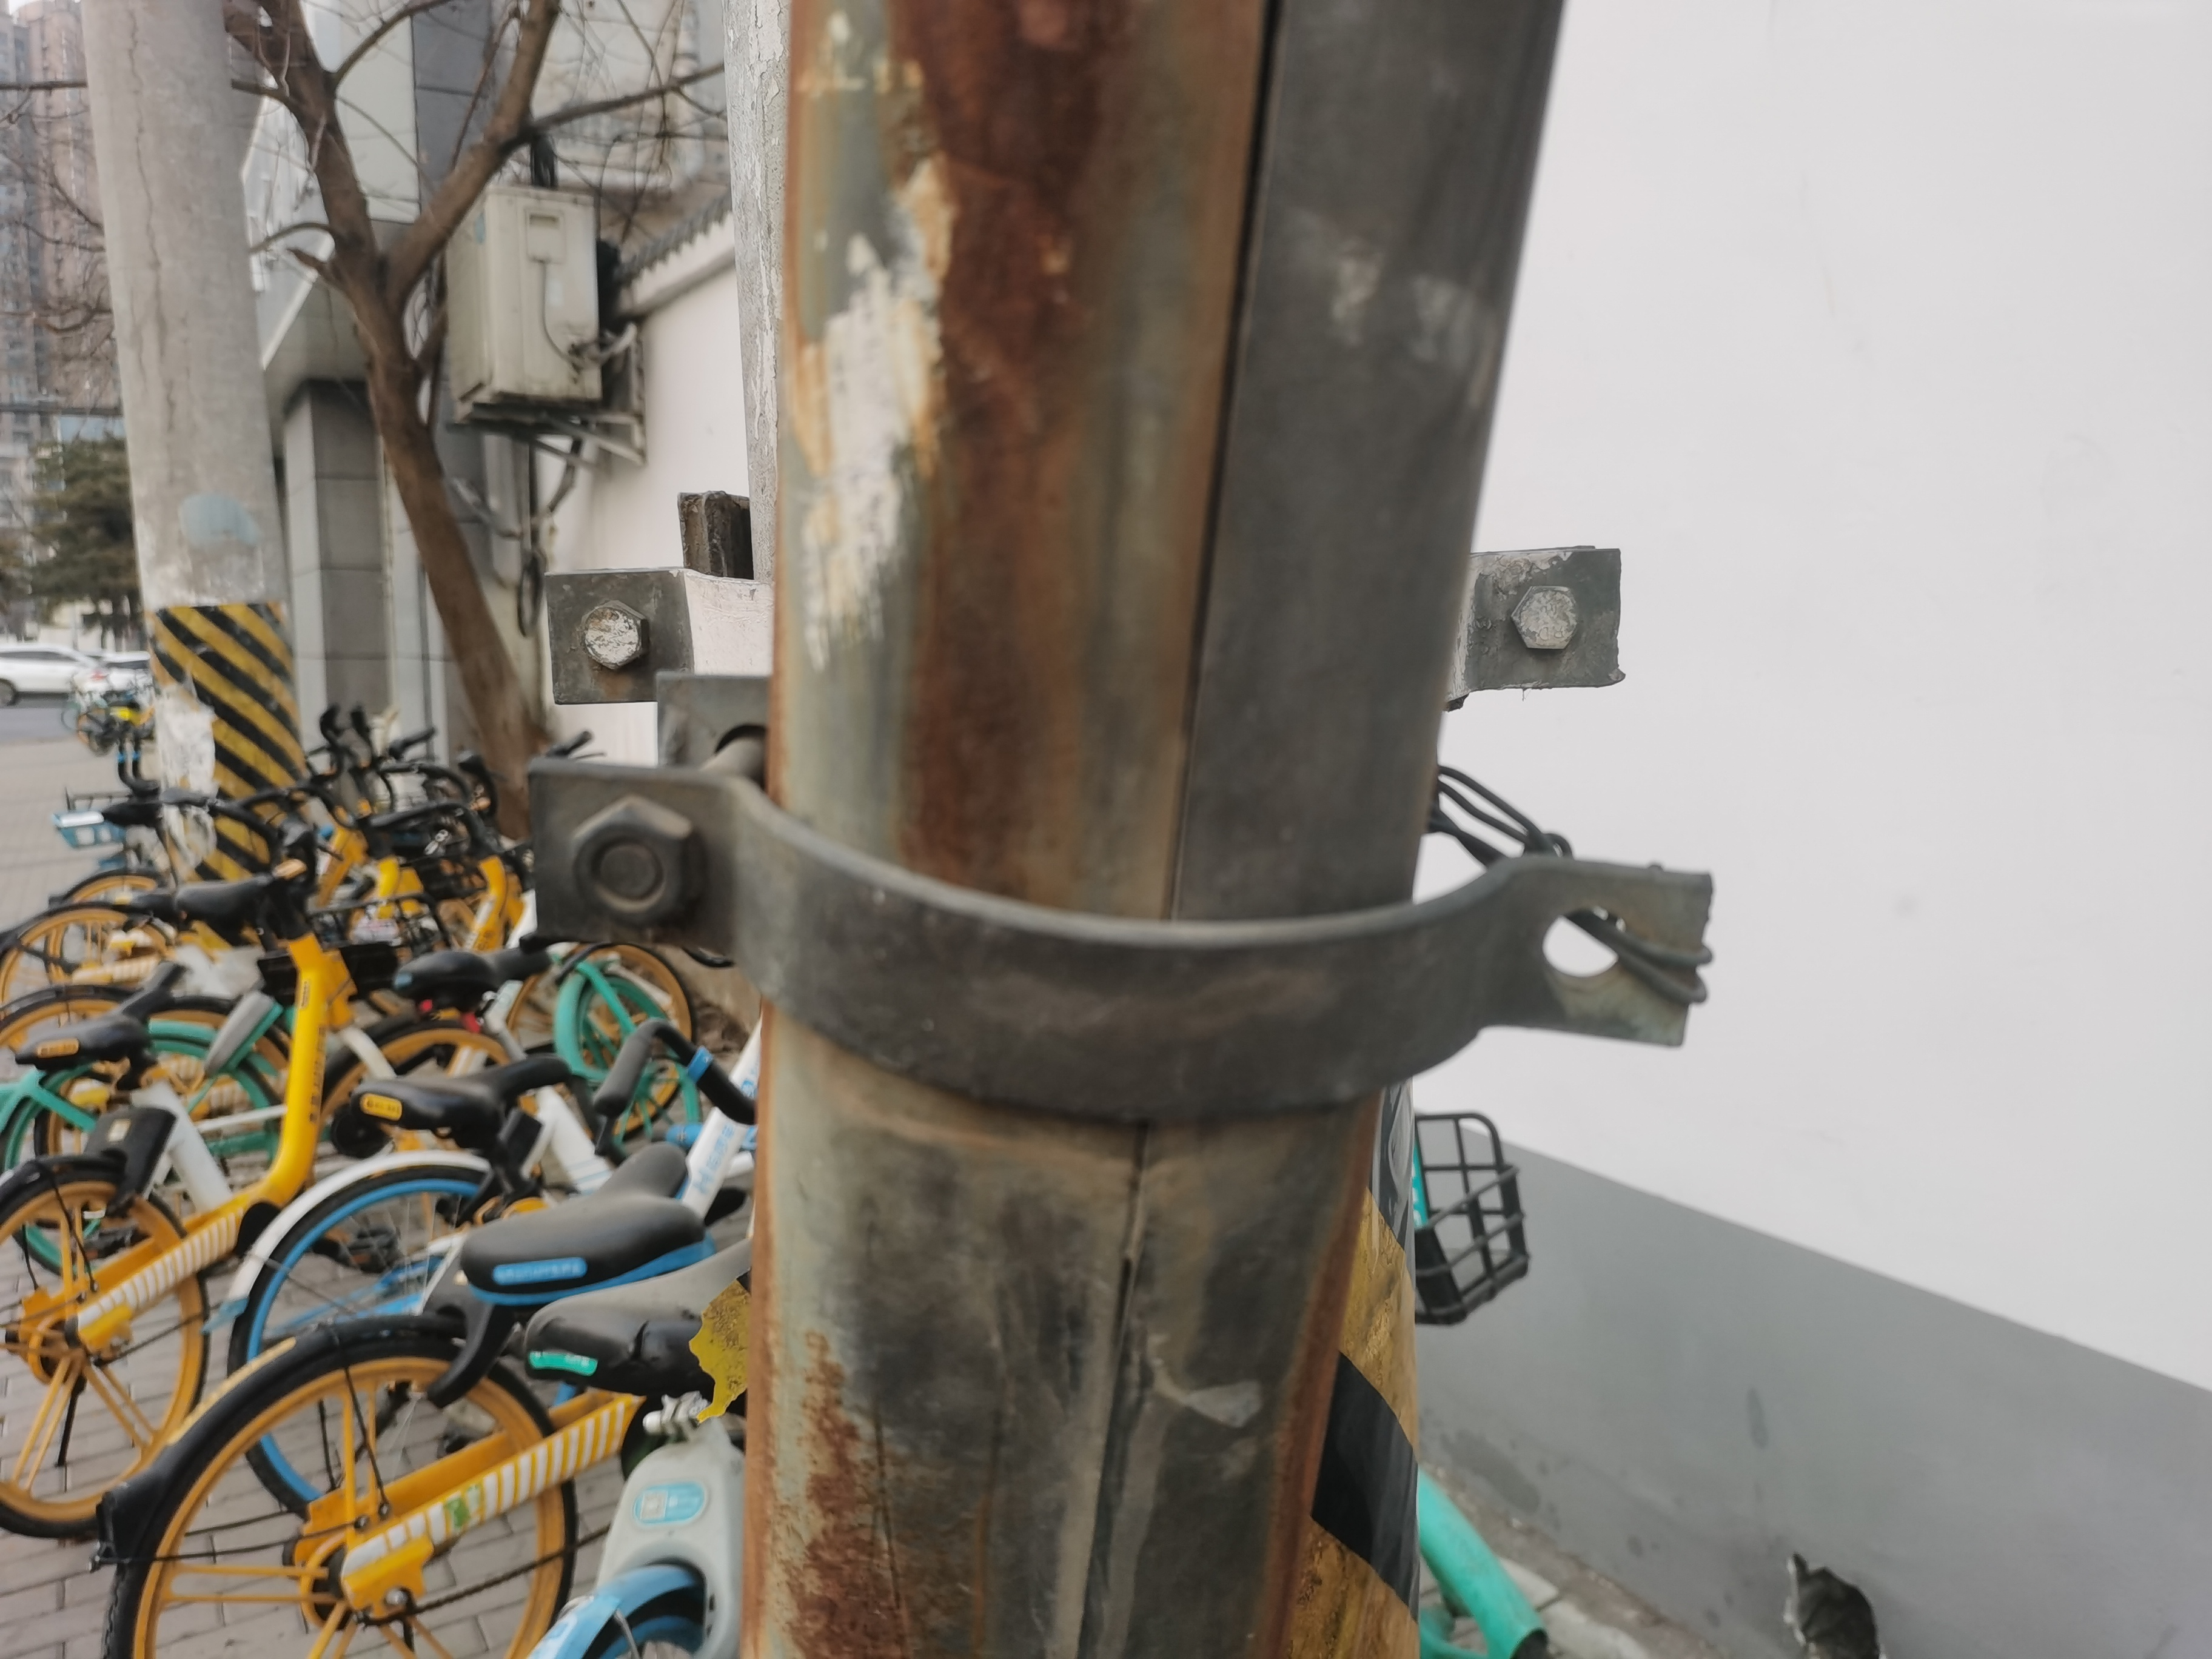bolt_a: (1507, 577, 1588, 660), (575, 598, 653, 678)
bolt_b: (552, 793, 716, 943)
